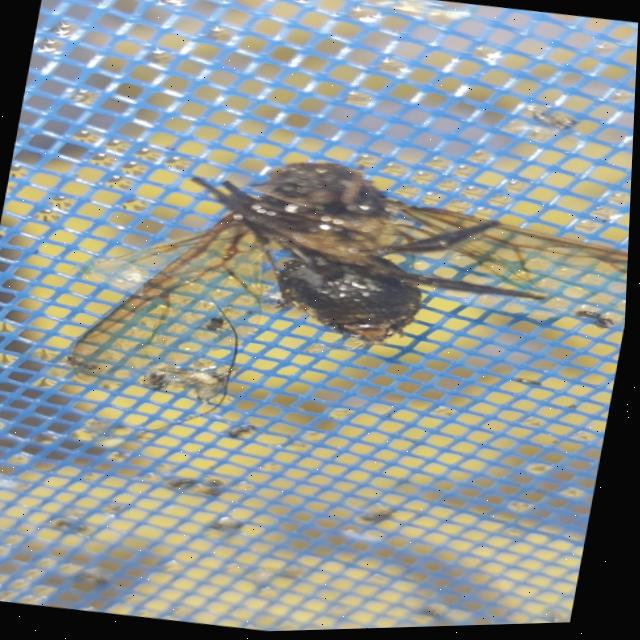Dead-Male-Alate: (66, 125, 635, 457)
